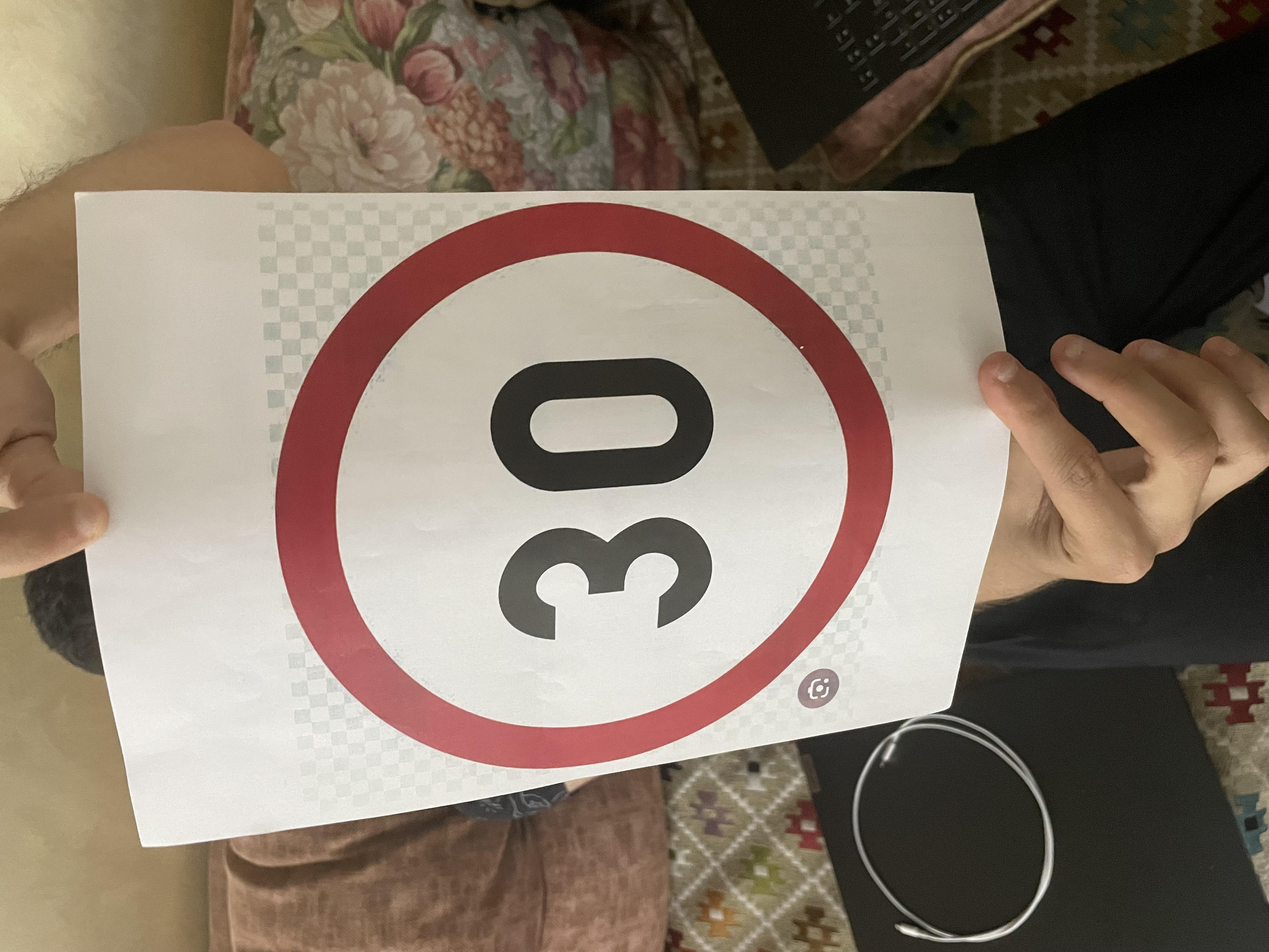30-speed: (230, 192, 1008, 676)
